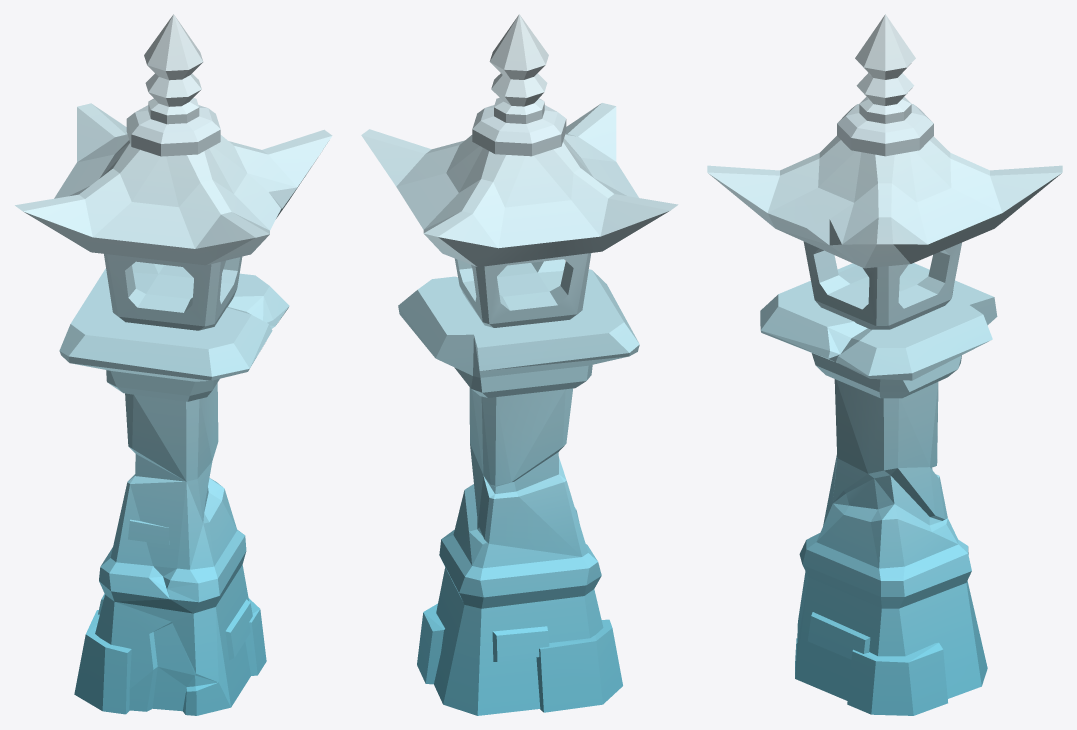
Rendered from Terrain_Stage2_Decoration_9.fbx.
3 renders of one model, left to right at view 1: azimuth 30°, elevation 25°; view 2: azimuth 150°, elevation 25°; view 3: azimuth 270°, elevation 25°, orthographic.
Parts seen in each view (by area): view 1: terrain_pillars_301; view 2: terrain_pillars_301; view 3: terrain_pillars_301.
Part boxes in pixels (<box>): terrain_pillars_301: <box>15,14,332,715</box>; terrain_pillars_301: <box>361,14,678,715</box>; terrain_pillars_301: <box>707,14,1062,715</box>.
Bounding box in the file's own units: 256 × 524 × 256.
Materials: 1 (1 with a texture image).
